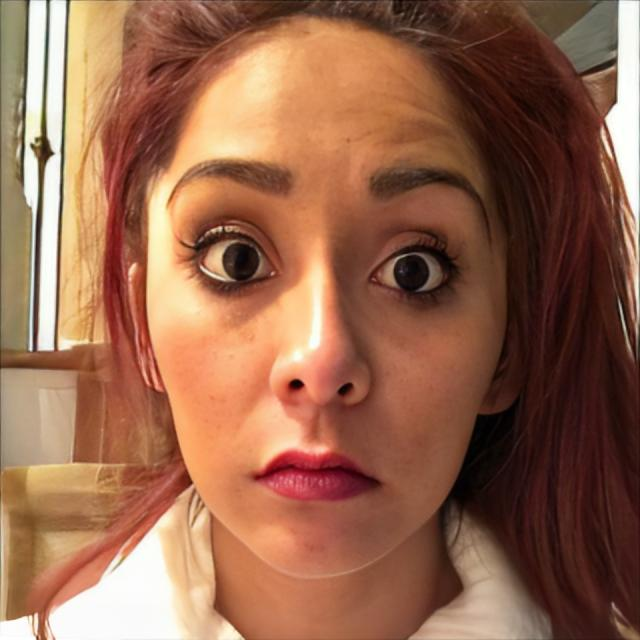surprise: (142, 11, 512, 584)
